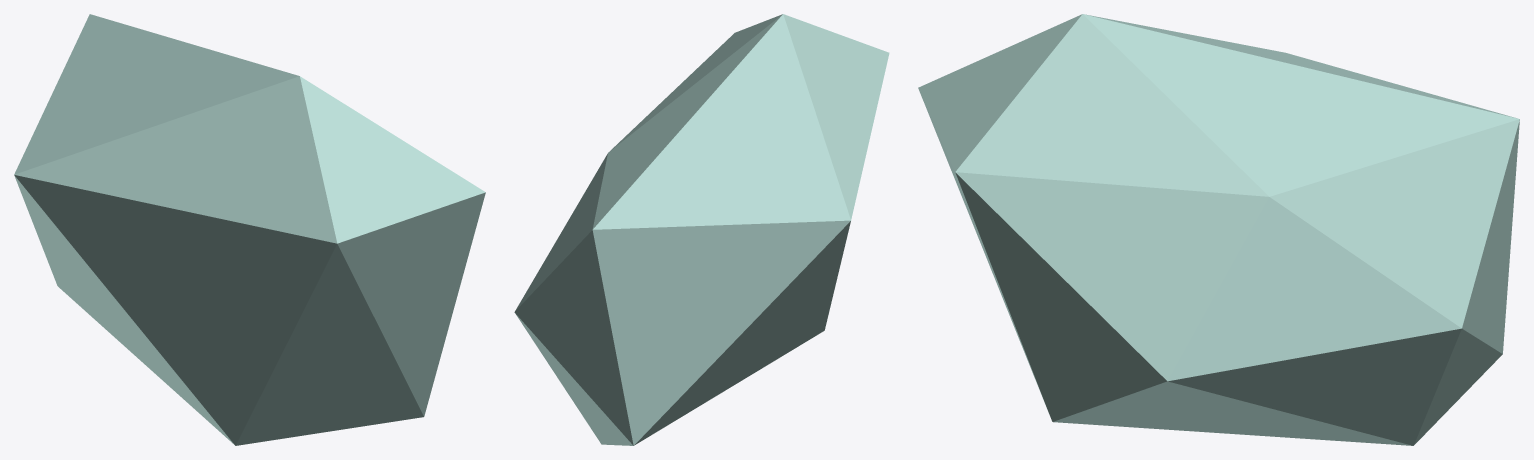
Rendered from smallrock1.glb.
3 renders of one model, left to right at view 1: azimuth 30°, elevation 25°; view 2: azimuth 150°, elevation 25°; view 3: azimuth 270°, elevation 25°, orthographic. The views are drawn at different scales.
Parts seen in each view (by area): view 1: Stone1.006; view 2: Stone1.006; view 3: Stone1.006.
Part boxes in pixels (<box>): Stone1.006: <box>14,14,485,445</box>; Stone1.006: <box>514,14,889,445</box>; Stone1.006: <box>918,14,1519,445</box>.
Size of the model in its own units: 0.5288 by 0.5419 by 0.7268.
